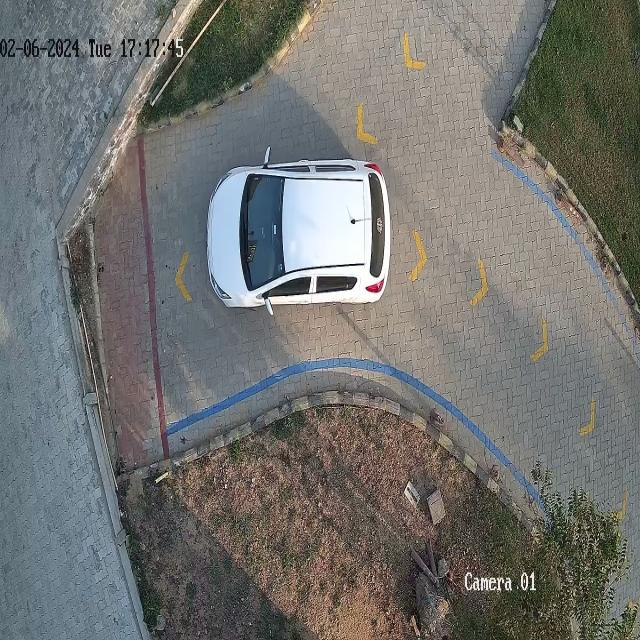car: (206, 147, 391, 313)
